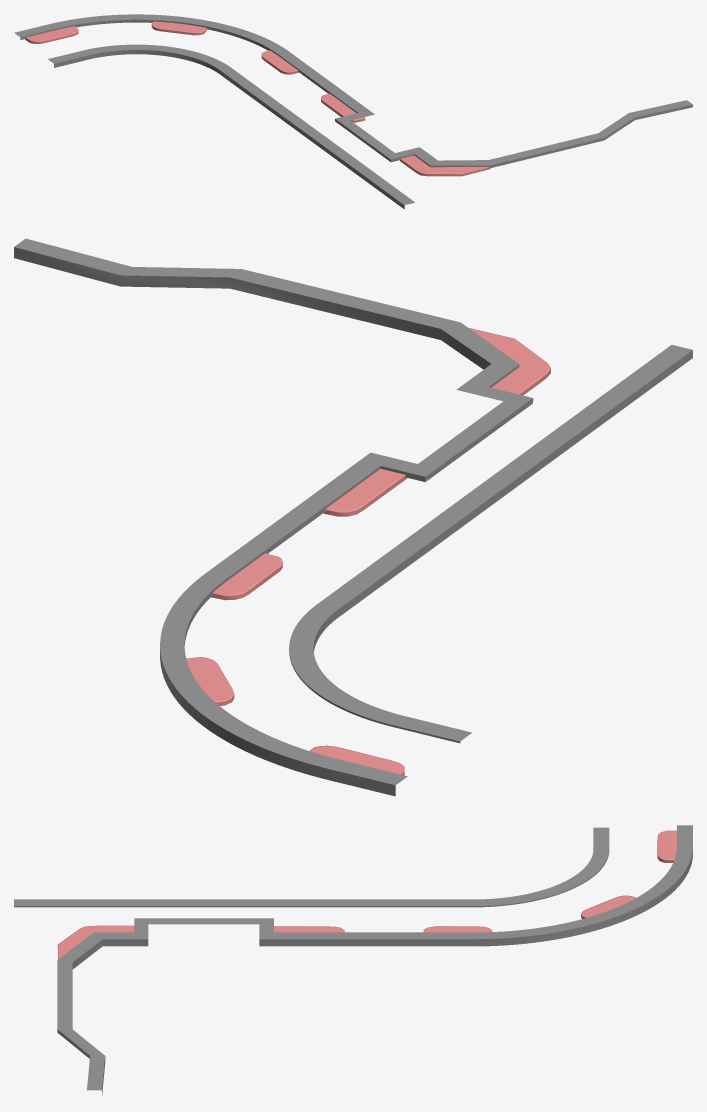
The model's file is CHN_OuterPath_Sidewalk_01.gltf.
3 renders of one model, top to bottom at view 1: azimuth 30°, elevation 25°; view 2: azimuth 150°, elevation 25°; view 3: azimuth 270°, elevation 25°, orthographic. The views are drawn at different scales.
Parts seen in each view (by area): view 1: CHN_OuterPath_Sidewalk_01; view 2: CHN_OuterPath_Sidewalk_01; view 3: CHN_OuterPath_Sidewalk_01.
Part boxes in pixels (x1,y1,x2,y2): CHN_OuterPath_Sidewalk_01: (14,14,692,209); CHN_OuterPath_Sidewalk_01: (14,238,692,796); CHN_OuterPath_Sidewalk_01: (14,825,692,1095).
Bounding box in the file's own units: 57.57 × 0.7685 × 62.37.
